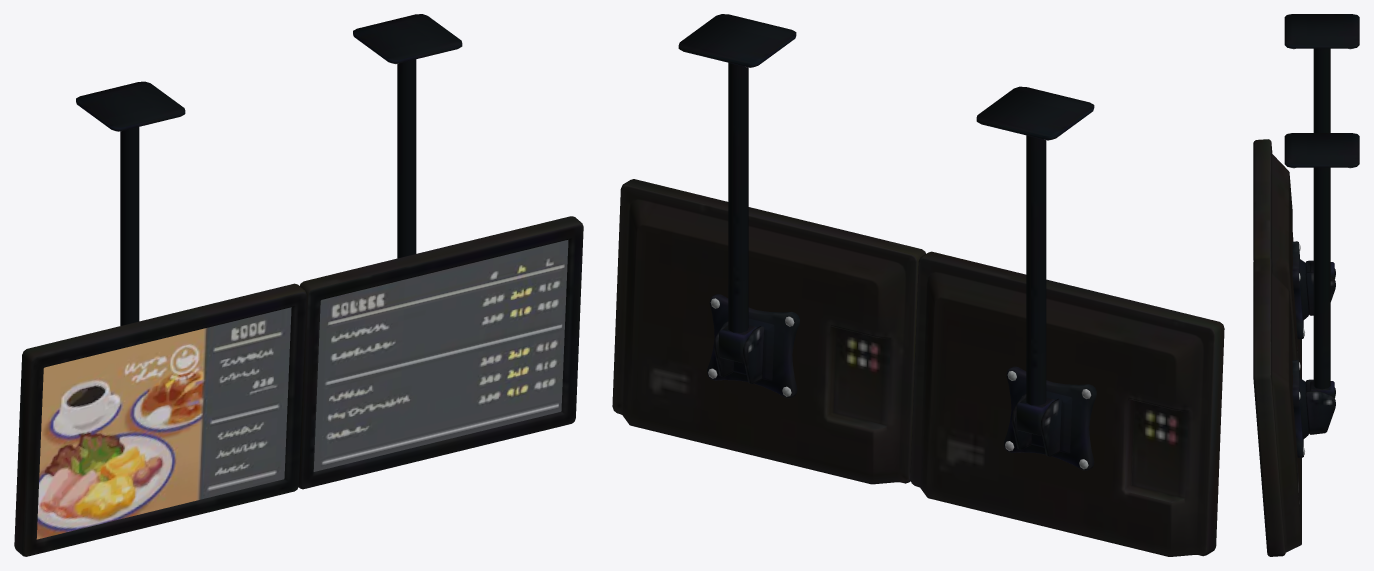
The picture shows the model from 3 angles, left to right: view 1: azimuth 30°, elevation 25°; view 2: azimuth 150°, elevation 25°; view 3: azimuth 270°, elevation 25°; orthographic projection. The views are drawn at different scales.
Size of the model in its own units: 20 by 13.73 by 3.78.
2 materials, 2 textured.
